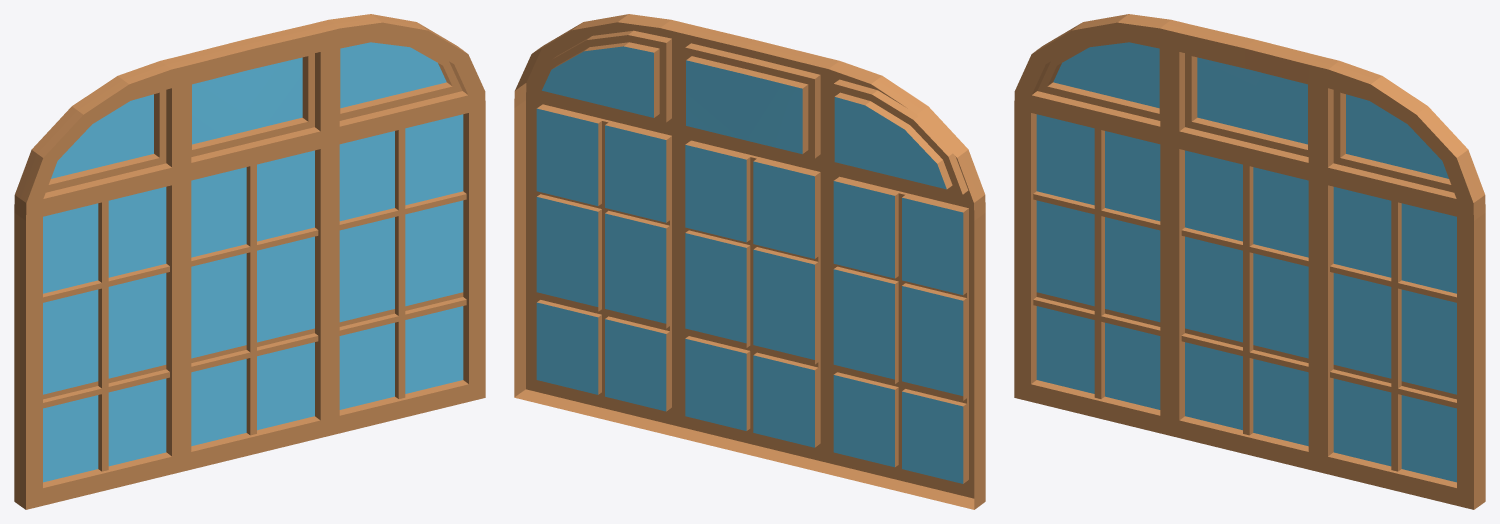
The model's file is WindowLargeCurve.fbx.
3 views of the same model, side by side, from view 1: azimuth 30°, elevation 25°; view 2: azimuth 150°, elevation 25°; view 3: azimuth 330°, elevation 25° (orthographic).
Visible parts, largest first — view 1: WindowLargeCurve; view 2: WindowLargeCurve; view 3: WindowLargeCurve.
Part boxes in pixels (<box>): WindowLargeCurve: <box>14,14,485,509</box>; WindowLargeCurve: <box>514,14,985,509</box>; WindowLargeCurve: <box>1014,14,1485,509</box>.
Size of the model in its own units: 3.55 by 0.1565 by 2.99.
